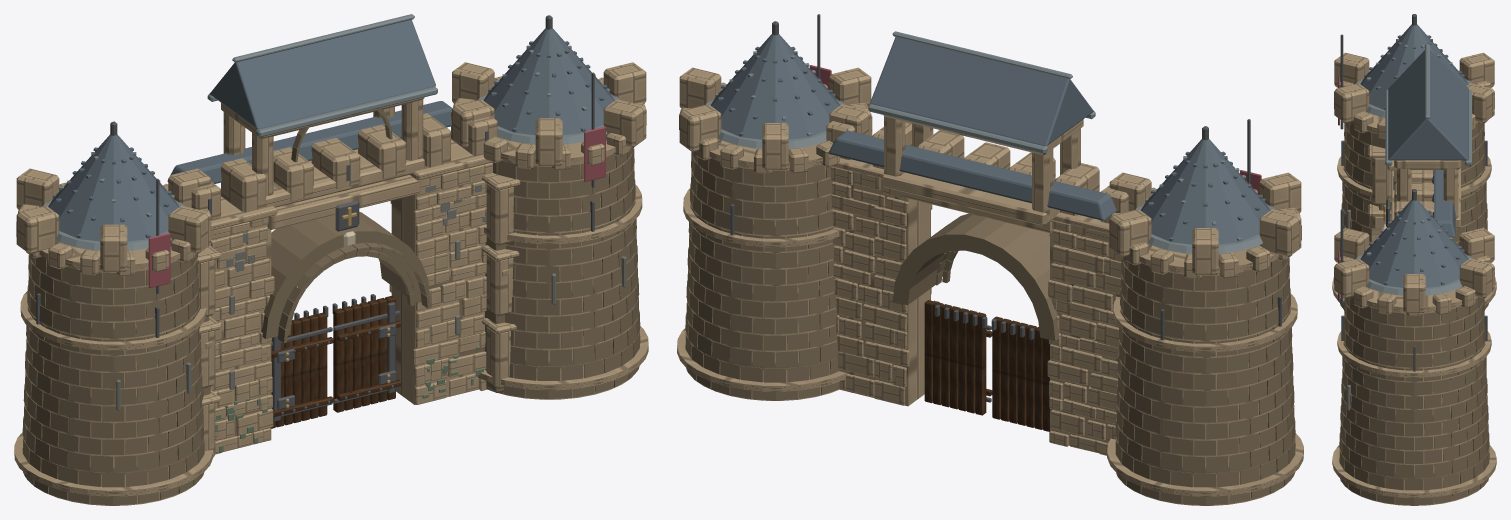
Rendered from valoria_gate_reference.glb.
3 renders of one model, left to right at view 1: azimuth 30°, elevation 25°; view 2: azimuth 150°, elevation 25°; view 3: azimuth 270°, elevation 25°, orthographic. The views are drawn at different scales.
Visible parts, largest first — view 1: arched_voussoir, gate_parapet_recessed_stone_hip, ashlar_portal_outboard.007, gate_flank_tower_recessed_drum, ashlar_portal_outboard.002, ashlar_portal_outboard, ashlar_portal_outboard.006, ashlar_portal_outboard.004, ashlar_portal_outboard.005, ashlar_portal_outboard.001, ashlar_portal_outboard.003, black_iron_strap.001 (+7 smaller); view 2: arched_voussoir, gate_parapet_recessed_stone_hip, ashlar_portal_outboard.007, gate_flank_tower_recessed_drum, ashlar_portal_outboard.002, ashlar_portal_outboard, ashlar_portal_outboard.001, ashlar_portal_outboard.004, ashlar_portal_outboard.005, ashlar_portal_outboard.003, ashlar_portal_outboard.006, vertical_oak_plank (+4 smaller); view 3: arched_voussoir, gate_parapet_recessed_stone_hip, ashlar_portal_outboard.003, ashlar_portal_outboard.006, ashlar_portal_outboard.002, gate_flank_tower_recessed_drum, ashlar_portal_outboard.007, ashlar_portal_outboard, ashlar_portal_outboard.001, ashlar_portal_outboard.005, ashlar_portal_outboard.004, roof_eaves_brace (+2 smaller).
Part boxes in pixels (x1,y1,x2,y2): arched_voussoir: (14,62,648,496); gate_parapet_recessed_stone_hip: (48,19,614,241); ashlar_portal_outboard.007: (22,160,639,493); gate_flank_tower_recessed_drum: (23,154,637,505); ashlar_portal_outboard.002: (22,108,639,503); ashlar_portal_outboard: (22,99,637,505); ashlar_portal_outboard.006: (25,162,640,484); ashlar_portal_outboard.004: (24,147,640,505); ashlar_portal_outboard.005: (23,157,639,499); ashlar_portal_outboard.001: (23,97,634,475); ashlar_portal_outboard.003: (25,146,640,452); black_iron_strap.001: (36,15,594,421); arched_voussoir: (677,67,1303,496); gate_parapet_recessed_stone_hip: (710,34,1270,244); ashlar_portal_outboard.007: (686,173,1293,505); gate_flank_tower_recessed_drum: (687,158,1295,505); ashlar_portal_outboard.002: (685,161,1295,505); ashlar_portal_outboard: (685,116,1295,487); ashlar_portal_outboard.001: (685,115,1281,499); ashlar_portal_outboard.004: (686,152,1295,493); ashlar_portal_outboard.005: (685,168,1294,503); ashlar_portal_outboard.003: (687,152,1293,487); ashlar_portal_outboard.006: (686,152,1294,479); vertical_oak_plank: (924,300,1049,431); arched_voussoir: (1332,52,1496,498); gate_parapet_recessed_stone_hip: (1360,24,1468,287); ashlar_portal_outboard.003: (1340,122,1489,505); ashlar_portal_outboard.006: (1339,141,1489,477); ashlar_portal_outboard.002: (1342,132,1486,503); gate_flank_tower_recessed_drum: (1341,128,1487,505); ashlar_portal_outboard.007: (1340,123,1489,495); ashlar_portal_outboard: (1339,123,1488,505); ashlar_portal_outboard.001: (1339,122,1488,483); ashlar_portal_outboard.005: (1339,131,1488,490); ashlar_portal_outboard.004: (1341,122,1488,503); roof_eaves_brace: (1356,44,1472,295).
Bounding box in the file's own units: 18.11 × 10.44 × 5.06.
22 materials, 13 textured.
